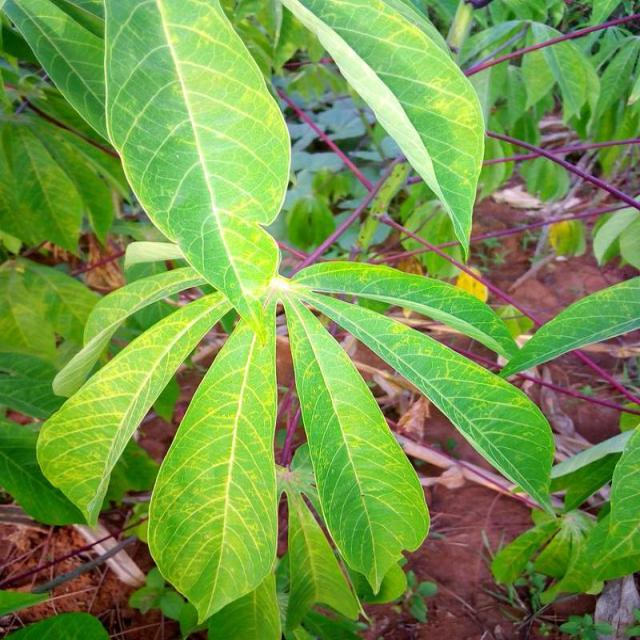cassava leaf: (17, 0, 560, 629), (103, 0, 293, 313), (282, 0, 488, 265), (283, 286, 432, 595), (147, 303, 280, 626)
